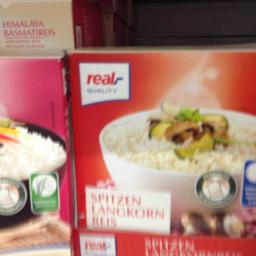rice: (66, 44, 255, 236), (0, 52, 71, 254)
